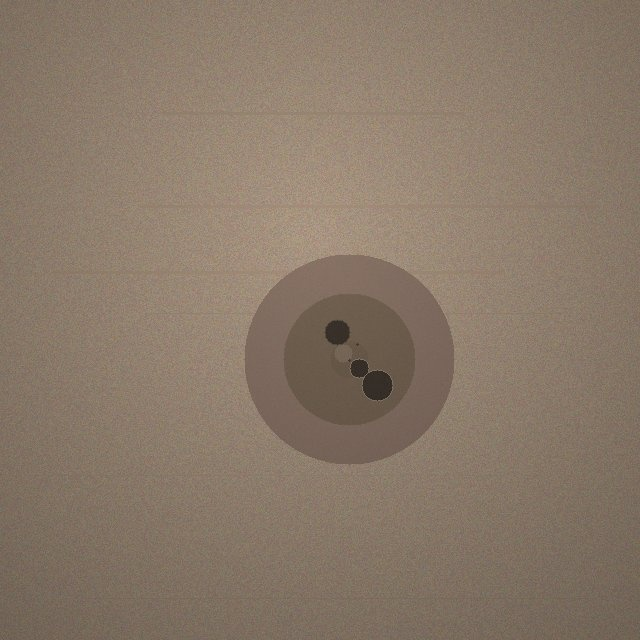shrinkage: (244, 254, 454, 464)
